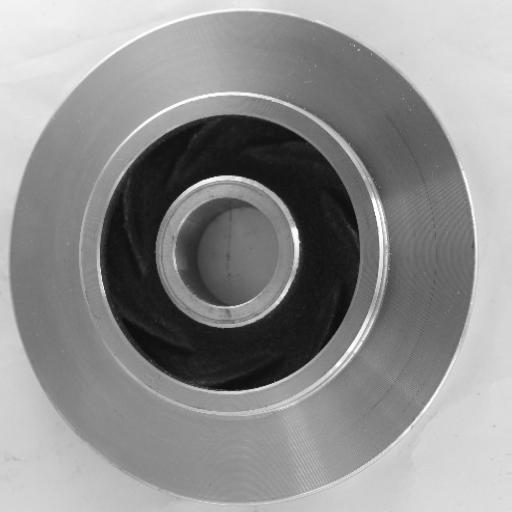polished_casting: (8, 10, 477, 507)
